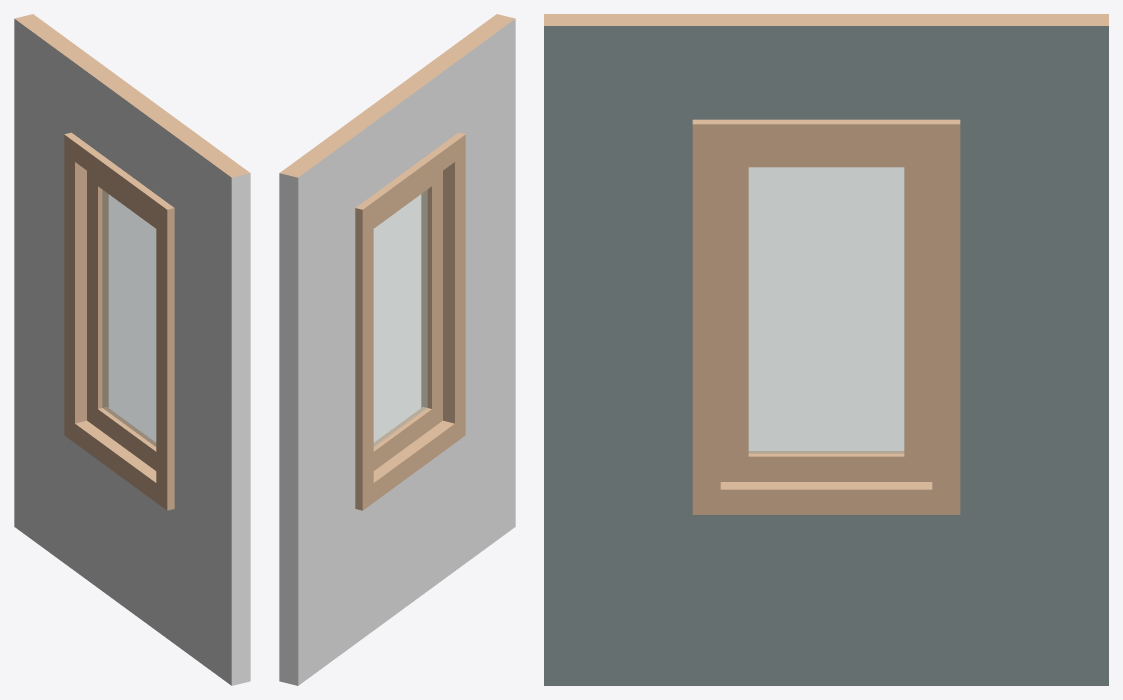
File: wallWindow-col.glb
The picture shows the model from 3 angles, left to right: view 1: azimuth 30°, elevation 25°; view 2: azimuth 150°, elevation 25°; view 3: azimuth 270°, elevation 25°; orthographic projection. The views are drawn at different scales.
Parts seen in each view (by area): view 1: wallWindow-col; view 2: wallWindow-col; view 3: wallWindow-col.
Boxes of the visible parts, left/top/right/bottom form: wallWindow-col: left=14, top=14, right=250, bottom=685; wallWindow-col: left=279, top=14, right=515, bottom=685; wallWindow-col: left=544, top=14, right=1108, bottom=685.
Bounding box in the file's own units: 0.0891 × 1.29 × 1.
